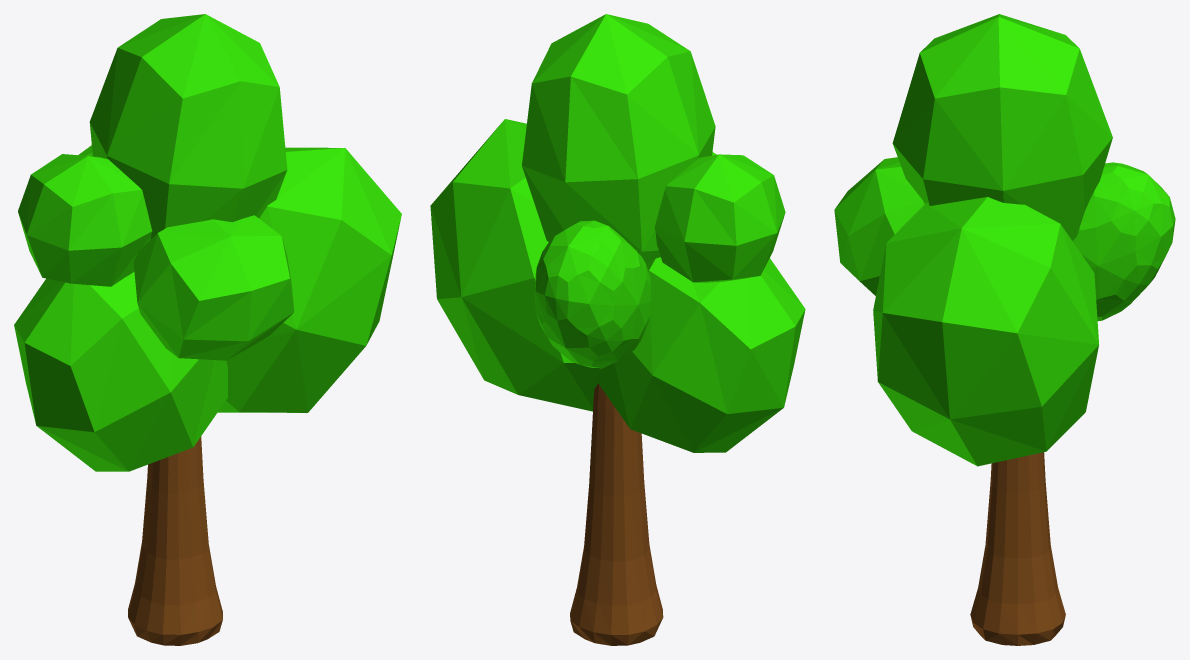
Rendered from tree.fbx.
The picture shows the model from 3 angles, left to right: view 1: azimuth 30°, elevation 25°; view 2: azimuth 150°, elevation 25°; view 3: azimuth 270°, elevation 25°; orthographic projection. The views are drawn at different scales.
Parts seen in each view (by area): view 1: Cube.001; view 2: Cube.001; view 3: Cube.001.
Part boxes in pixels (box(x1,y1,x2,y2)): Cube.001: box(14, 14, 401, 645); Cube.001: box(430, 14, 805, 645); Cube.001: box(834, 14, 1175, 645).
Size of the model in its own units: 506 by 842 by 415.
